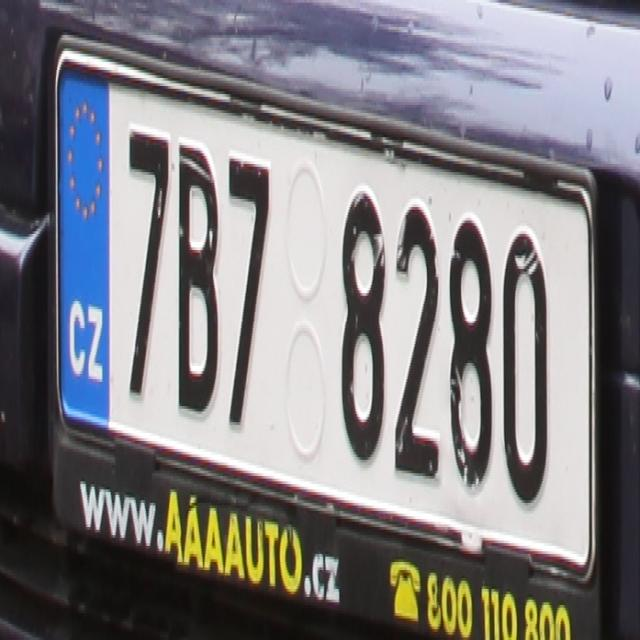0: (501, 223, 551, 516)
2: (391, 196, 442, 482)
7: (227, 153, 273, 425), (126, 121, 169, 406)
8: (449, 218, 494, 497), (342, 180, 386, 460)
B: (172, 126, 218, 417)
